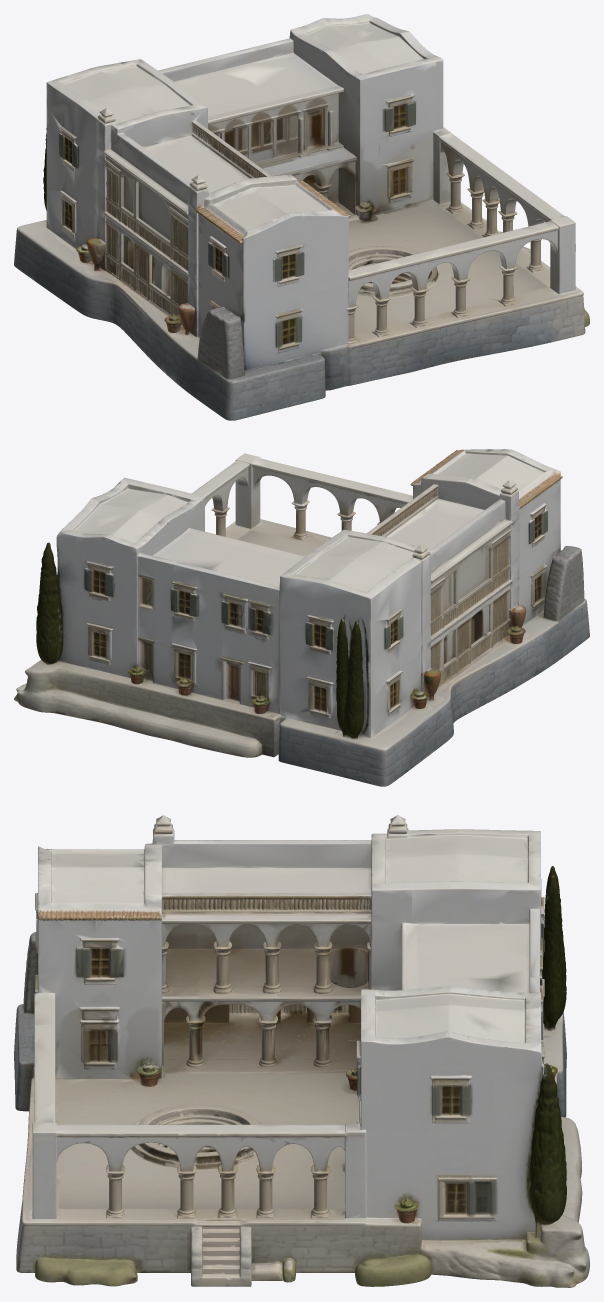
The model's file is 地中海民居3D图.glb.
The picture shows the model from 3 angles, top to bottom: view 1: azimuth 30°, elevation 25°; view 2: azimuth 150°, elevation 25°; view 3: azimuth 270°, elevation 25°; orthographic projection. The views are drawn at different scales.
Parts seen in each view (by area): view 1: node_0; view 2: node_0; view 3: node_0.
Boxes of the visible parts, x1,y1,x2,y2 form: node_0: (14, 14, 589, 420); node_0: (14, 449, 589, 786); node_0: (14, 815, 589, 1287).
Bounding box in the file's own units: 0.8074 × 0.3964 × 0.8208.
Materials: 1 (1 with a texture image).
